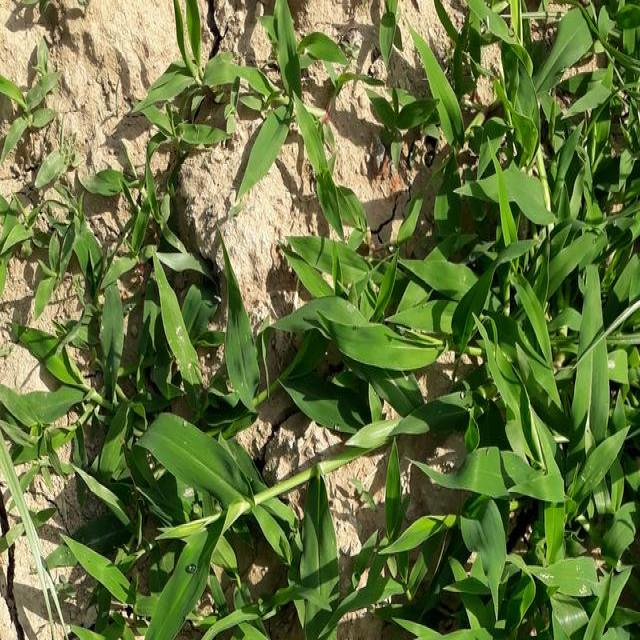weed: (439, 2, 640, 638), (66, 207, 238, 640), (306, 203, 428, 480), (214, 18, 348, 173)
